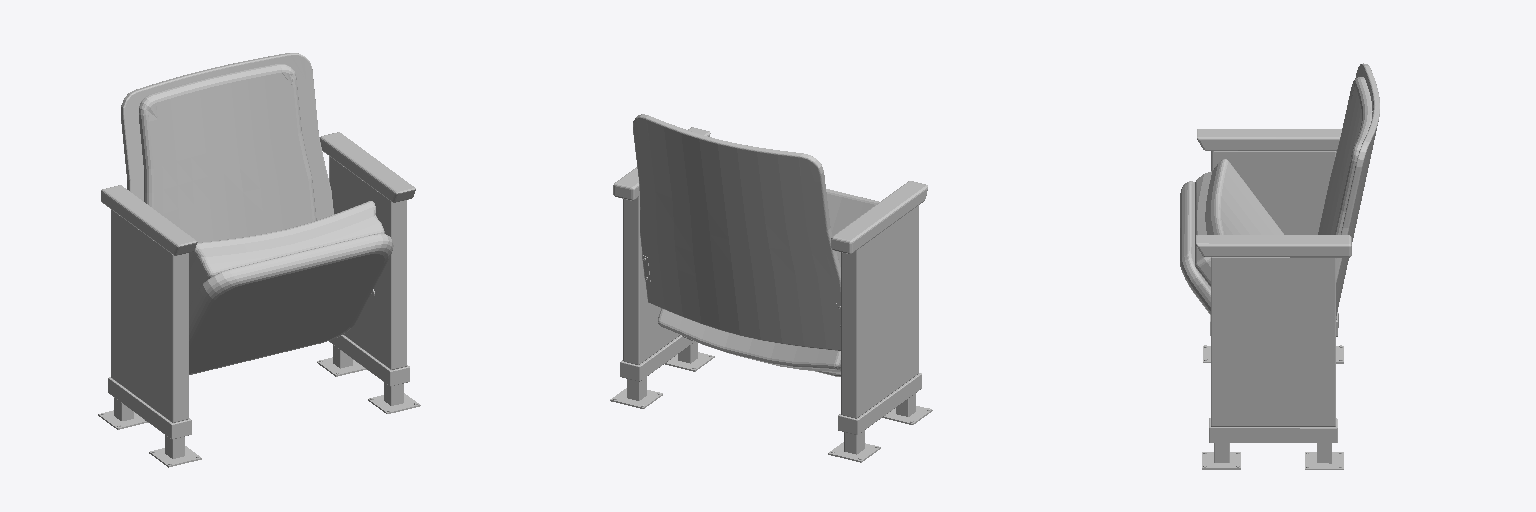
File: theaterChair.obj
3 renders of one model, left to right at view 1: azimuth 30°, elevation 25°; view 2: azimuth 150°, elevation 25°; view 3: azimuth 270°, elevation 25°, orthographic.
Parts seen in each view (by area): view 1: Object_4; view 2: Object_4; view 3: Object_4.
Part boxes in pixels (x1,y1,x2,y2): Object_4: (98,53,420,467); Object_4: (610,114,932,462); Object_4: (1180,63,1379,469).
Bounding box in the file's own units: 0.7082 × 0.8197 × 0.4889.